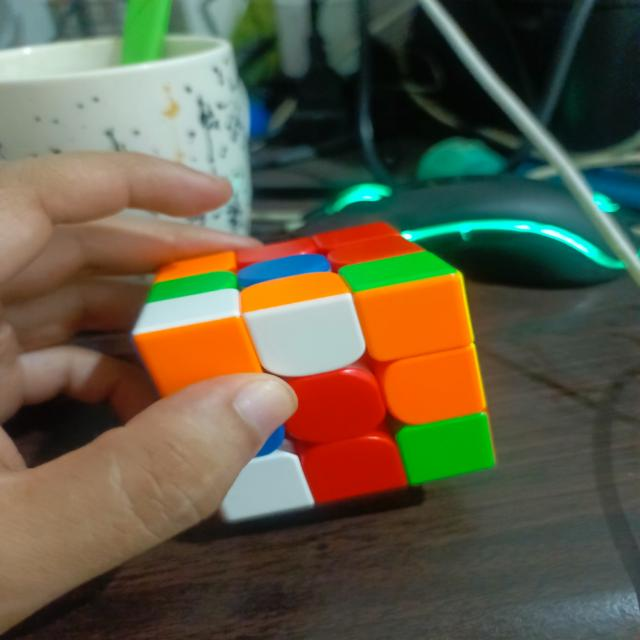rubik: (129, 220, 498, 523)
